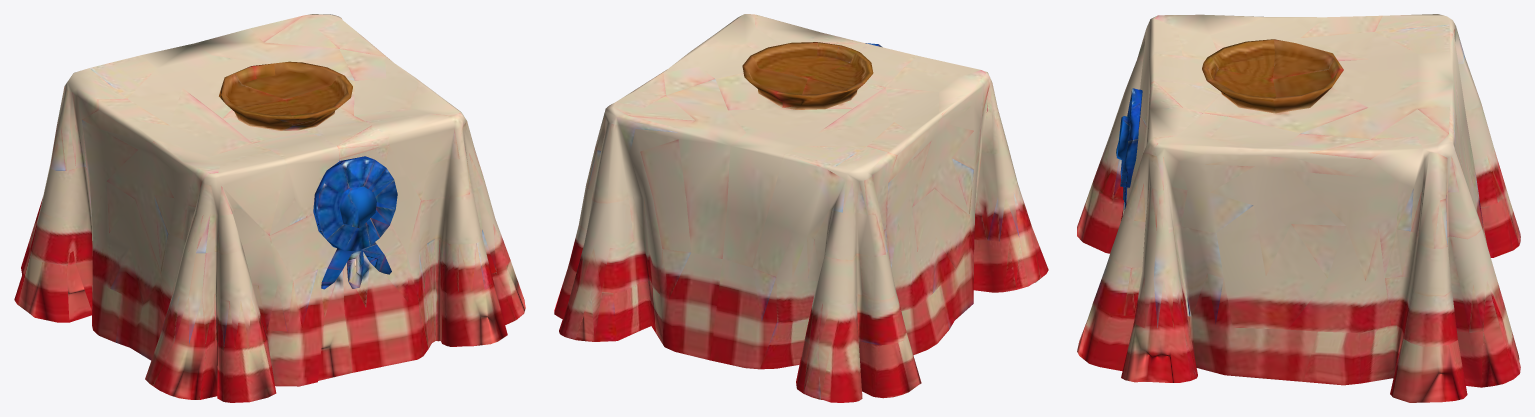
Rendered from fest_stand.glb.
3 views of the same model, side by side, from view 1: azimuth 30°, elevation 25°; view 2: azimuth 150°, elevation 25°; view 3: azimuth 270°, elevation 25° (orthographic). The views are drawn at different scales.
Bounding box in the file's own units: 1 × 0.6176 × 1.
Materials: 1 (1 with a texture image).
